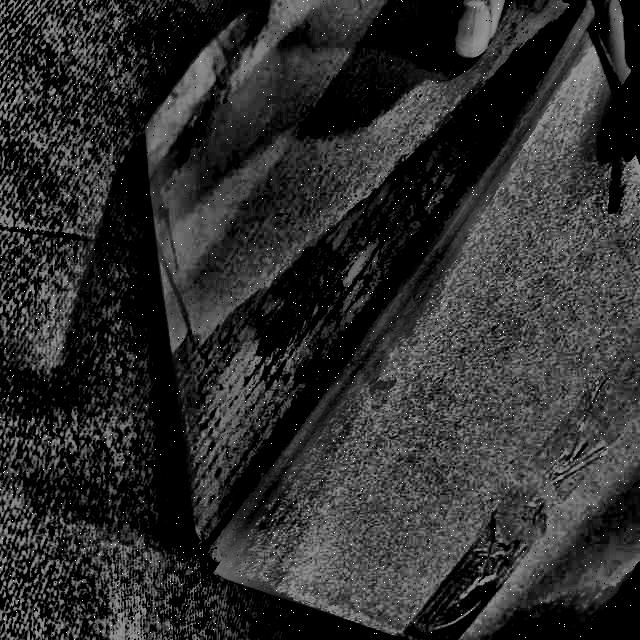box: (139, 0, 639, 639)
wet: (165, 10, 582, 561)
